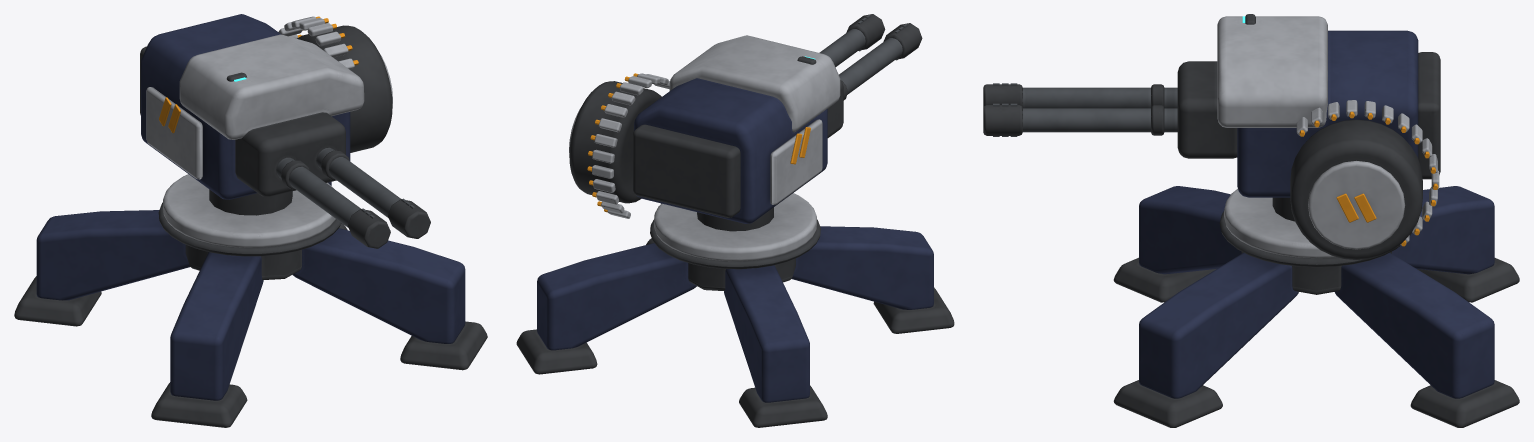
The model's file is kestrel_midnight_steel.glb.
3 renders of one model, left to right at view 1: azimuth 30°, elevation 25°; view 2: azimuth 150°, elevation 25°; view 3: azimuth 270°, elevation 25°, orthographic. The views are drawn at different scales.
Parts seen in each view (by area): view 1: Kestrel_Base, Kestrel_Head; view 2: Kestrel_Base, Kestrel_Head; view 3: Kestrel_Head, Kestrel_Base.
Boxes of the visible parts, <box> form: Kestrel_Base: <box>14,174,487,427</box>; Kestrel_Head: <box>140,14,430,248</box>; Kestrel_Base: <box>516,193,954,427</box>; Kestrel_Head: <box>569,14,922,231</box>; Kestrel_Head: <box>983,14,1440,259</box>; Kestrel_Base: <box>1113,186,1519,427</box>.
Bounding box in the file's own units: 1.84 × 1.51 × 2.43.
Materials: 6 (5 with a texture image).
